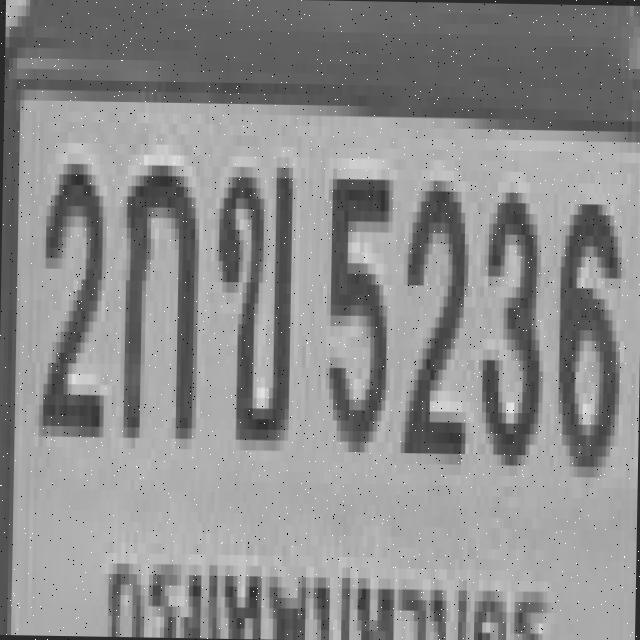10GorGai: (119, 154, 196, 428)
11KhorKhai: (212, 156, 288, 440)
2: (34, 152, 104, 426), (398, 169, 463, 454)
3: (477, 182, 538, 456)
5: (324, 168, 389, 442)
6: (553, 193, 618, 467)
